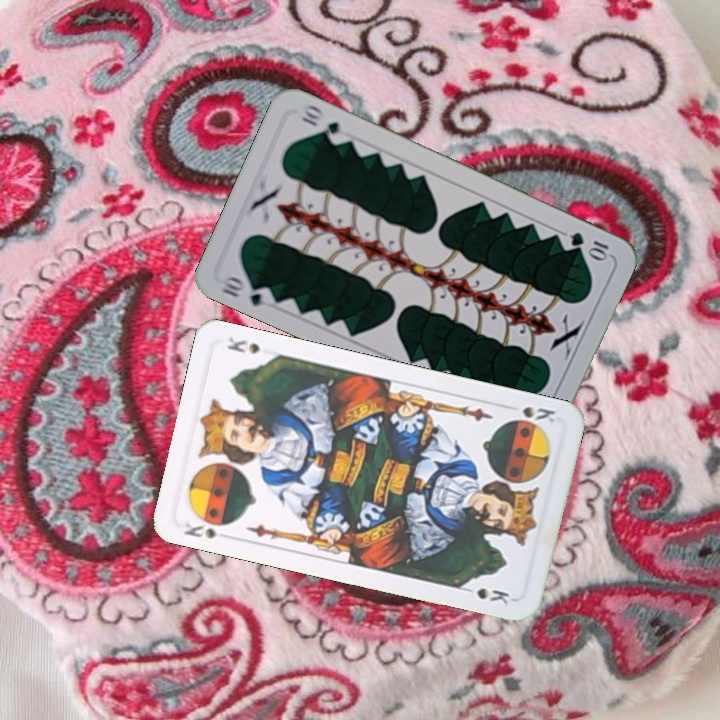G10: (217, 272, 276, 310), (566, 227, 611, 262)
SK: (506, 402, 560, 429), (180, 518, 235, 542)
